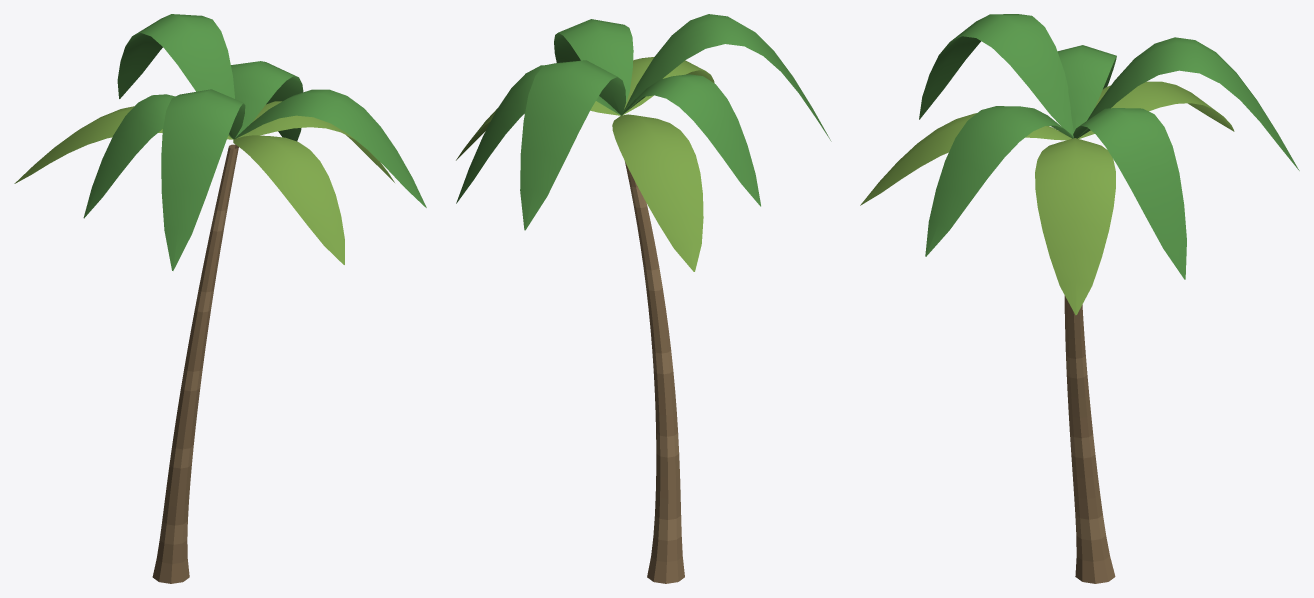
Rendered from SM_Palm_01.glb.
The picture shows the model from 3 angles, left to right: view 1: azimuth 30°, elevation 25°; view 2: azimuth 150°, elevation 25°; view 3: azimuth 270°, elevation 25°; orthographic projection. The views are drawn at different scales.
Parts seen in each view (by area): view 1: SM_Palm_01; view 2: SM_Palm_01; view 3: SM_Palm_01.
Boxes of the visible parts, box(x1,y1,x2,y2) form: SM_Palm_01: box(14, 14, 426, 583); SM_Palm_01: box(456, 14, 831, 583); SM_Palm_01: box(860, 14, 1299, 583).
Size of what is drawn, in the model's own units: 4.83 by 7.78 by 5.55.
